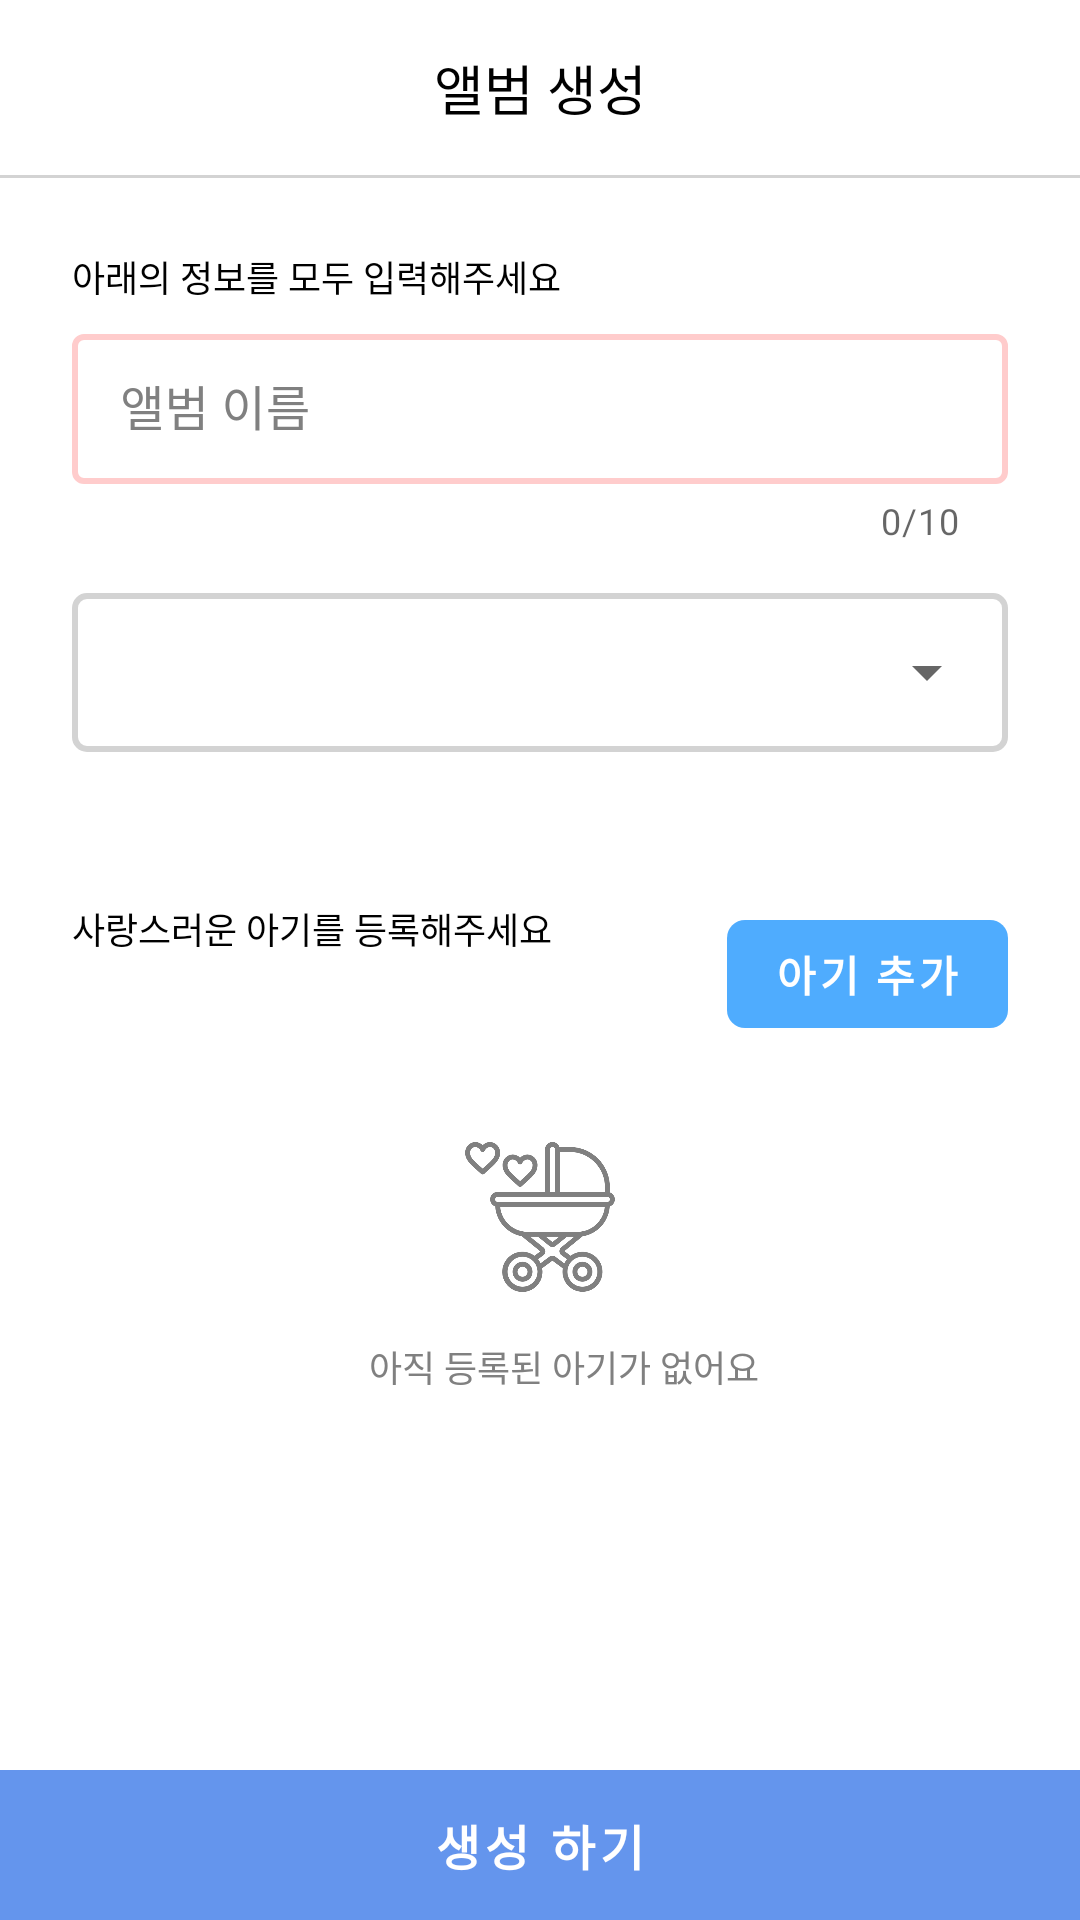

Screen size 1080 x 1920. Icon name, then its box in pixels as (x1, y1, x2, y2):
pushchair: (465, 1142, 615, 1292)
